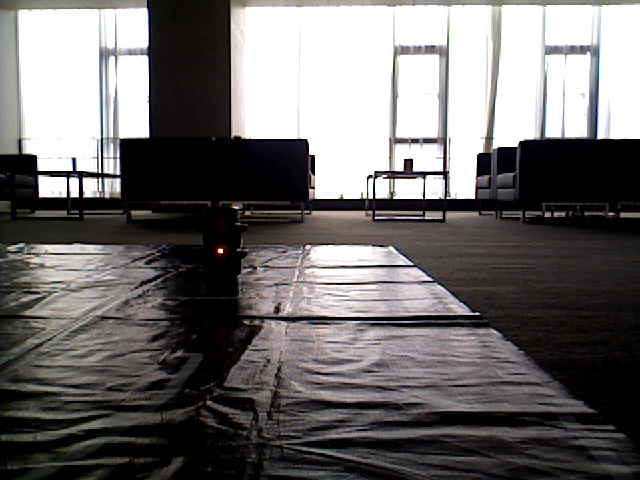yellow: (203, 204, 237, 294)
